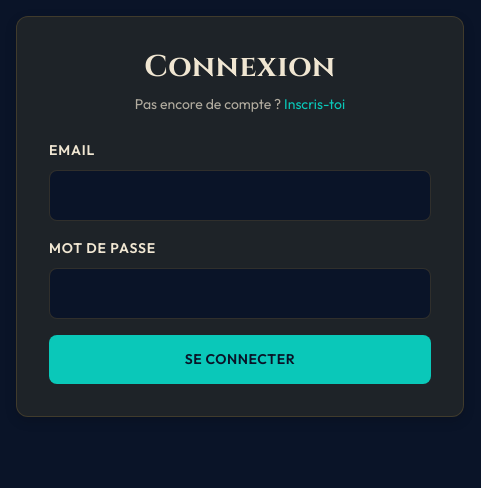
LoginPage › shows validation errors when fields are empty
The width and height of the screenshot is (481, 488).
Click the button "Se connecter" at {"x": 240, "y": 360}, box x1=49 y1=335 x2=431 y2=384
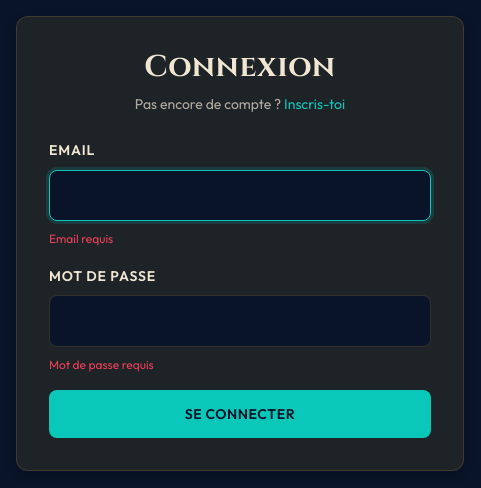
Expected: the text "Email requis" is shown, x1=49 y1=231 x2=113 y2=246
Expected: the text "Mot de passe requis" is shown, x1=49 y1=356 x2=154 y2=372
